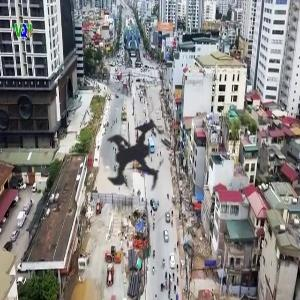drone: (35, 52, 246, 263)
